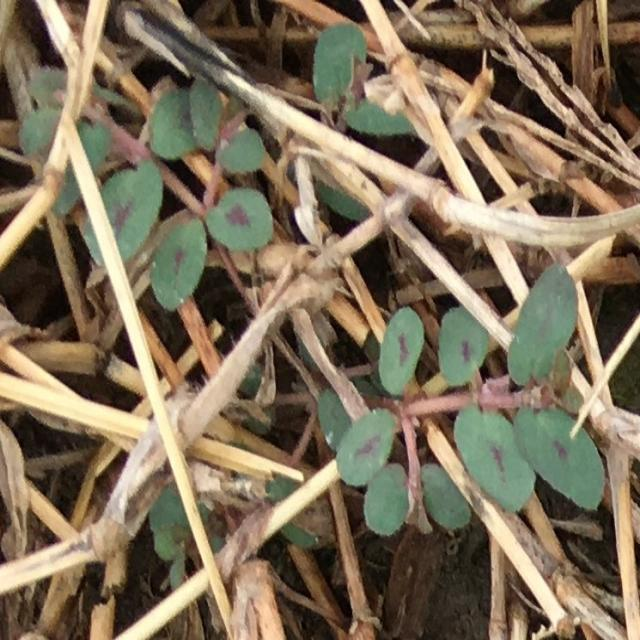SpottedSpurge: (150, 263, 606, 590), (17, 16, 417, 310)
